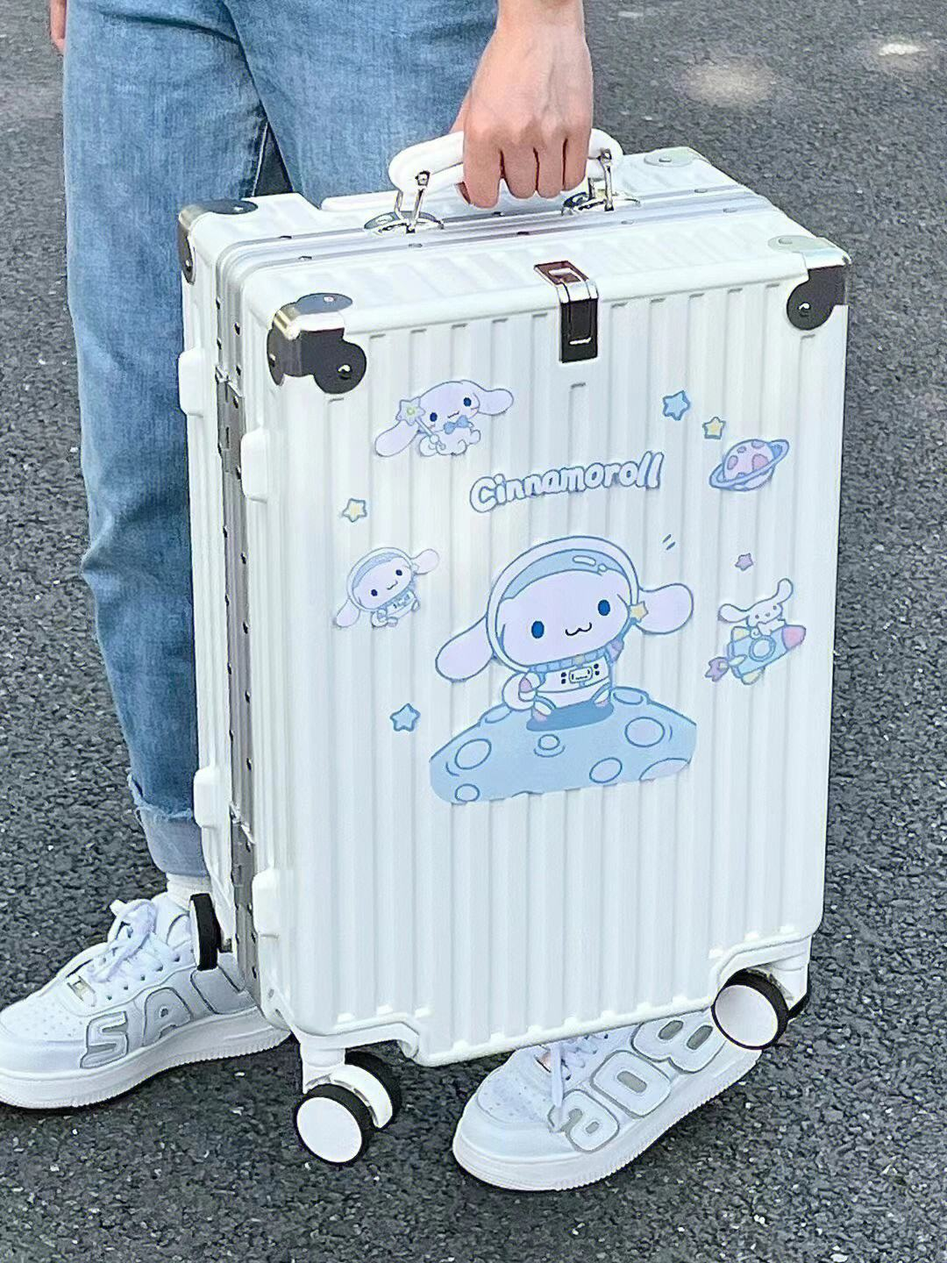box: (177, 148, 848, 1060)
handle: (364, 127, 641, 240)
wheel: (293, 1050, 401, 1167), (709, 964, 810, 1048), (188, 893, 239, 970)
